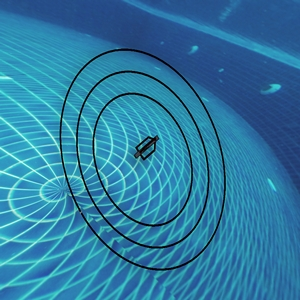circle: (44, 55, 261, 269)
